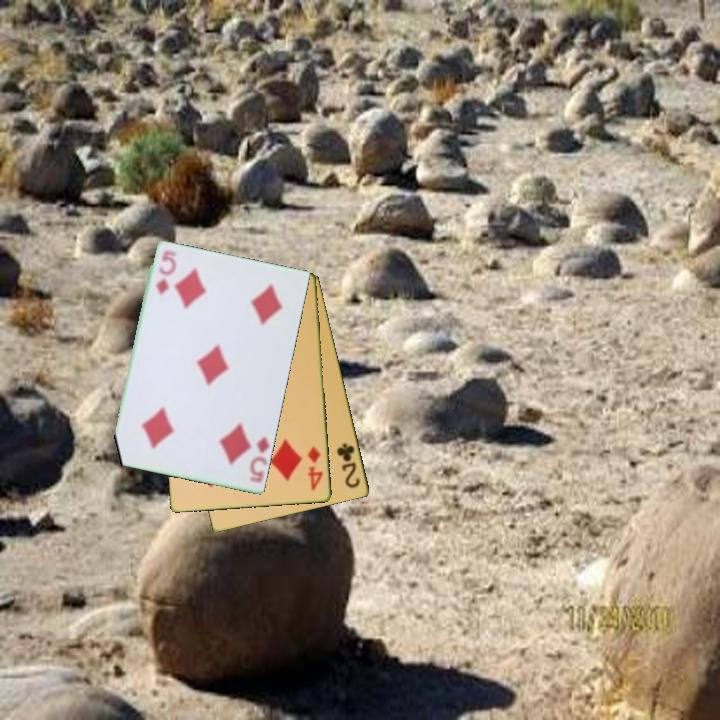2c: (334, 440, 363, 491)
4d: (304, 443, 326, 494)
5d: (246, 433, 273, 487), (153, 247, 175, 298)
